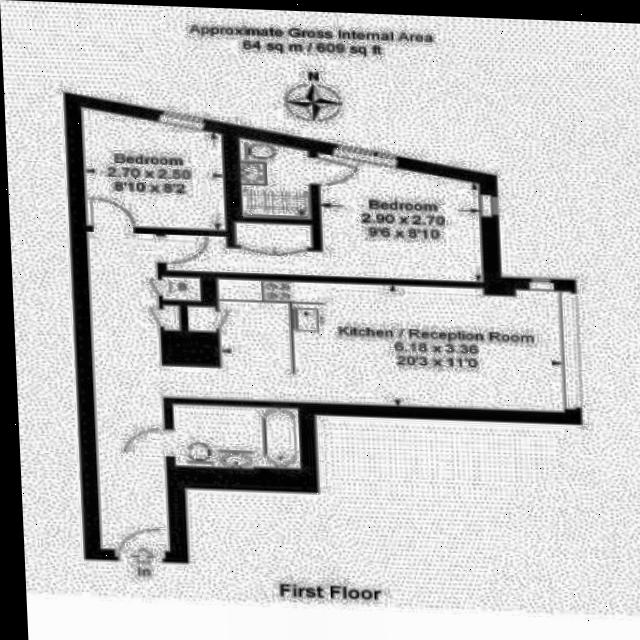room: (84, 206, 572, 555), (165, 148, 487, 282), (75, 107, 232, 233), (170, 404, 302, 470), (239, 134, 311, 222)
